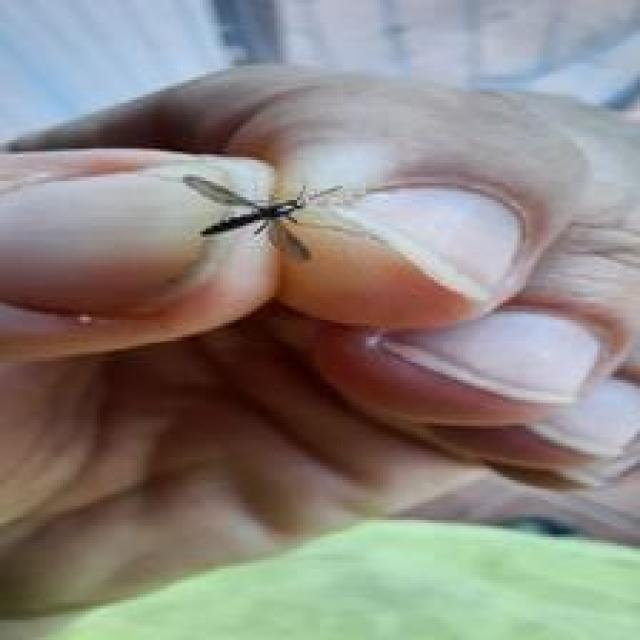Aedes albopictus: (180, 171, 346, 263)
